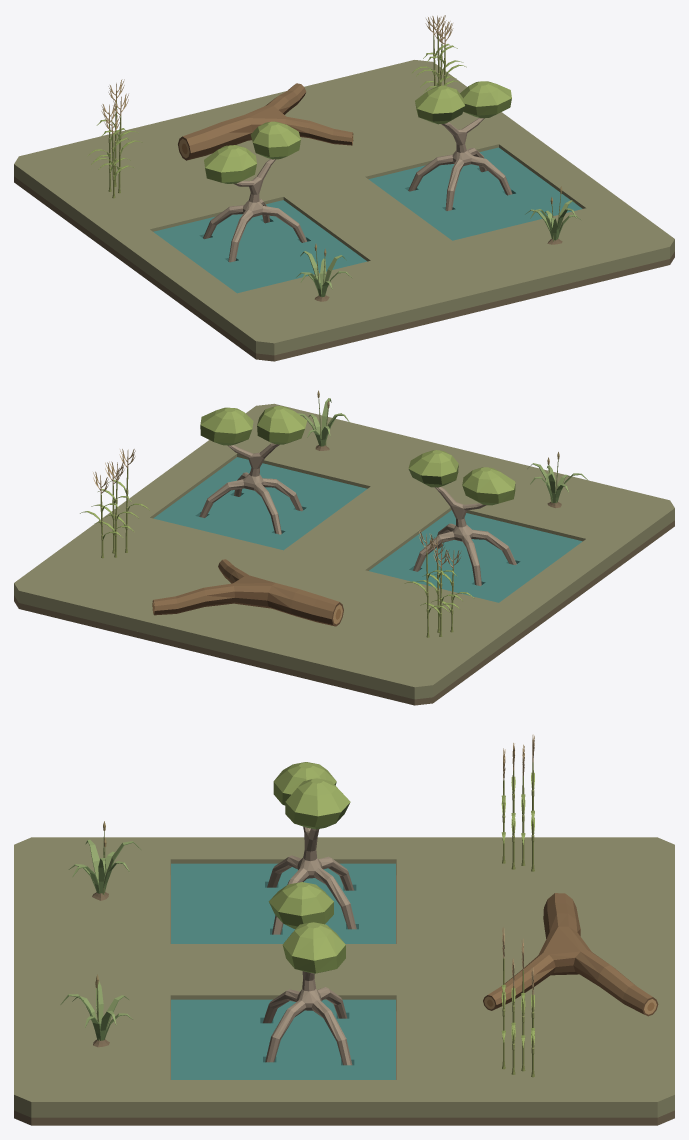
3 renders of one model, top to bottom at view 1: azimuth 30°, elevation 25°; view 2: azimuth 150°, elevation 25°; view 3: azimuth 270°, elevation 25°, orthographic. The views are drawn at different scales.
Visible parts, largest first — view 1: SceneEnvironment_DryBank, SceneEnvironment_ShallowWater, SceneEnvironment_MudBase, ForkLog_RearBoundary__ContinuousYForkedWood, Mangrove_West__Wood_ContinuousPropRootTree, Mangrove_East__Wood_ContinuousPropRootTree, Mangrove_West__Crown_LeftLow, Mangrove_West__Crown_RightHigh, Mangrove_East__Crown_LeftLow, Mangrove_East__Crown_RightHigh, Sedge_WestEntry__nature-reed-sedge-01, Sedge_EastEntry__nature-reed-sedge-01; view 2: SceneEnvironment_DryBank, SceneEnvironment_ShallowWater, ForkLog_RearBoundary__ContinuousYForkedWood, SceneEnvironment_MudBase, Mangrove_East__Wood_ContinuousPropRootTree, Mangrove_West__Wood_ContinuousPropRootTree, Mangrove_East__Crown_LeftLow, Mangrove_West__Crown_LeftLow, Mangrove_East__Crown_RightHigh, Mangrove_West__Crown_RightHigh, Sedge_EastEntry__nature-reed-sedge-01, Sedge_WestEntry__nature-reed-sedge-01; view 3: SceneEnvironment_DryBank, SceneEnvironment_ShallowWater, ForkLog_RearBoundary__ContinuousYForkedWood, SceneEnvironment_MudBase, Mangrove_East__Wood_ContinuousPropRootTree, Mangrove_West__Wood_ContinuousPropRootTree, Mangrove_East__Crown_LeftLow, Mangrove_West__Crown_RightHigh, Mangrove_East__Crown_RightHigh, Mangrove_West__Crown_LeftLow, Sedge_WestEntry__nature-reed-sedge-01, Sedge_EastEntry__nature-reed-sedge-01.
Part boxes in pixels (x1,y1,x2,y2): SceneEnvironment_DryBank: (14,60,674,355); SceneEnvironment_ShallowWater: (153,147,582,293); SceneEnvironment_MudBase: (14,176,674,361); ForkLog_RearBoundary__ContinuousYForkedWood: (178,83,353,160); Mangrove_West__Wood_ContinuousPropRootTree: (203,159,306,262); Mangrove_East__Wood_ContinuousPropRootTree: (408,118,512,210); Mangrove_West__Crown_LeftLow: (204,145,256,183); Mangrove_West__Crown_RightHigh: (250,121,300,159); Mangrove_East__Crown_LeftLow: (460,81,511,118); Mangrove_East__Crown_RightHigh: (415,85,464,124); Sedge_WestEntry__nature-reed-sedge-01: (296,243,351,301); Sedge_EastEntry__nature-reed-sedge-01: (525,186,580,244); SceneEnvironment_DryBank: (14,403,674,699); SceneEnvironment_ShallowWater: (153,457,582,602); ForkLog_RearBoundary__ContinuousYForkedWood: (152,559,343,626); SceneEnvironment_MudBase: (14,520,674,705); Mangrove_East__Wood_ContinuousPropRootTree: (199,443,303,534); Mangrove_West__Wood_ContinuousPropRootTree: (413,487,516,586); Mangrove_East__Crown_LeftLow: (200,407,253,445); Mangrove_West__Crown_LeftLow: (462,467,515,505); Mangrove_East__Crown_RightHigh: (257,406,307,444); Mangrove_West__Crown_RightHigh: (408,450,458,487); Sedge_EastEntry__nature-reed-sedge-01: (298,390,349,450); Sedge_WestEntry__nature-reed-sedge-01: (527,452,588,508); SceneEnvironment_DryBank: (14,837,674,1117); SceneEnvironment_ShallowWater: (171,863,395,1079); ForkLog_RearBoundary__ContinuousYForkedWood: (483,893,658,1016); SceneEnvironment_MudBase: (14,875,674,1125); Mangrove_East__Wood_ContinuousPropRootTree: (263,971,352,1065); Mangrove_West__Wood_ContinuousPropRootTree: (267,826,356,934); Mangrove_East__Crown_LeftLow: (282,922,345,973); Mangrove_West__Crown_RightHigh: (285,778,350,829); Mangrove_East__Crown_RightHigh: (268,882,333,929); Mangrove_West__Crown_LeftLow: (273,762,336,805); Sedge_WestEntry__nature-reed-sedge-01: (68,821,140,900); Sedge_EastEntry__nature-reed-sedge-01: (60,974,132,1047).
Bounding box in the file's own units: 9 × 2.55 × 9.5.
